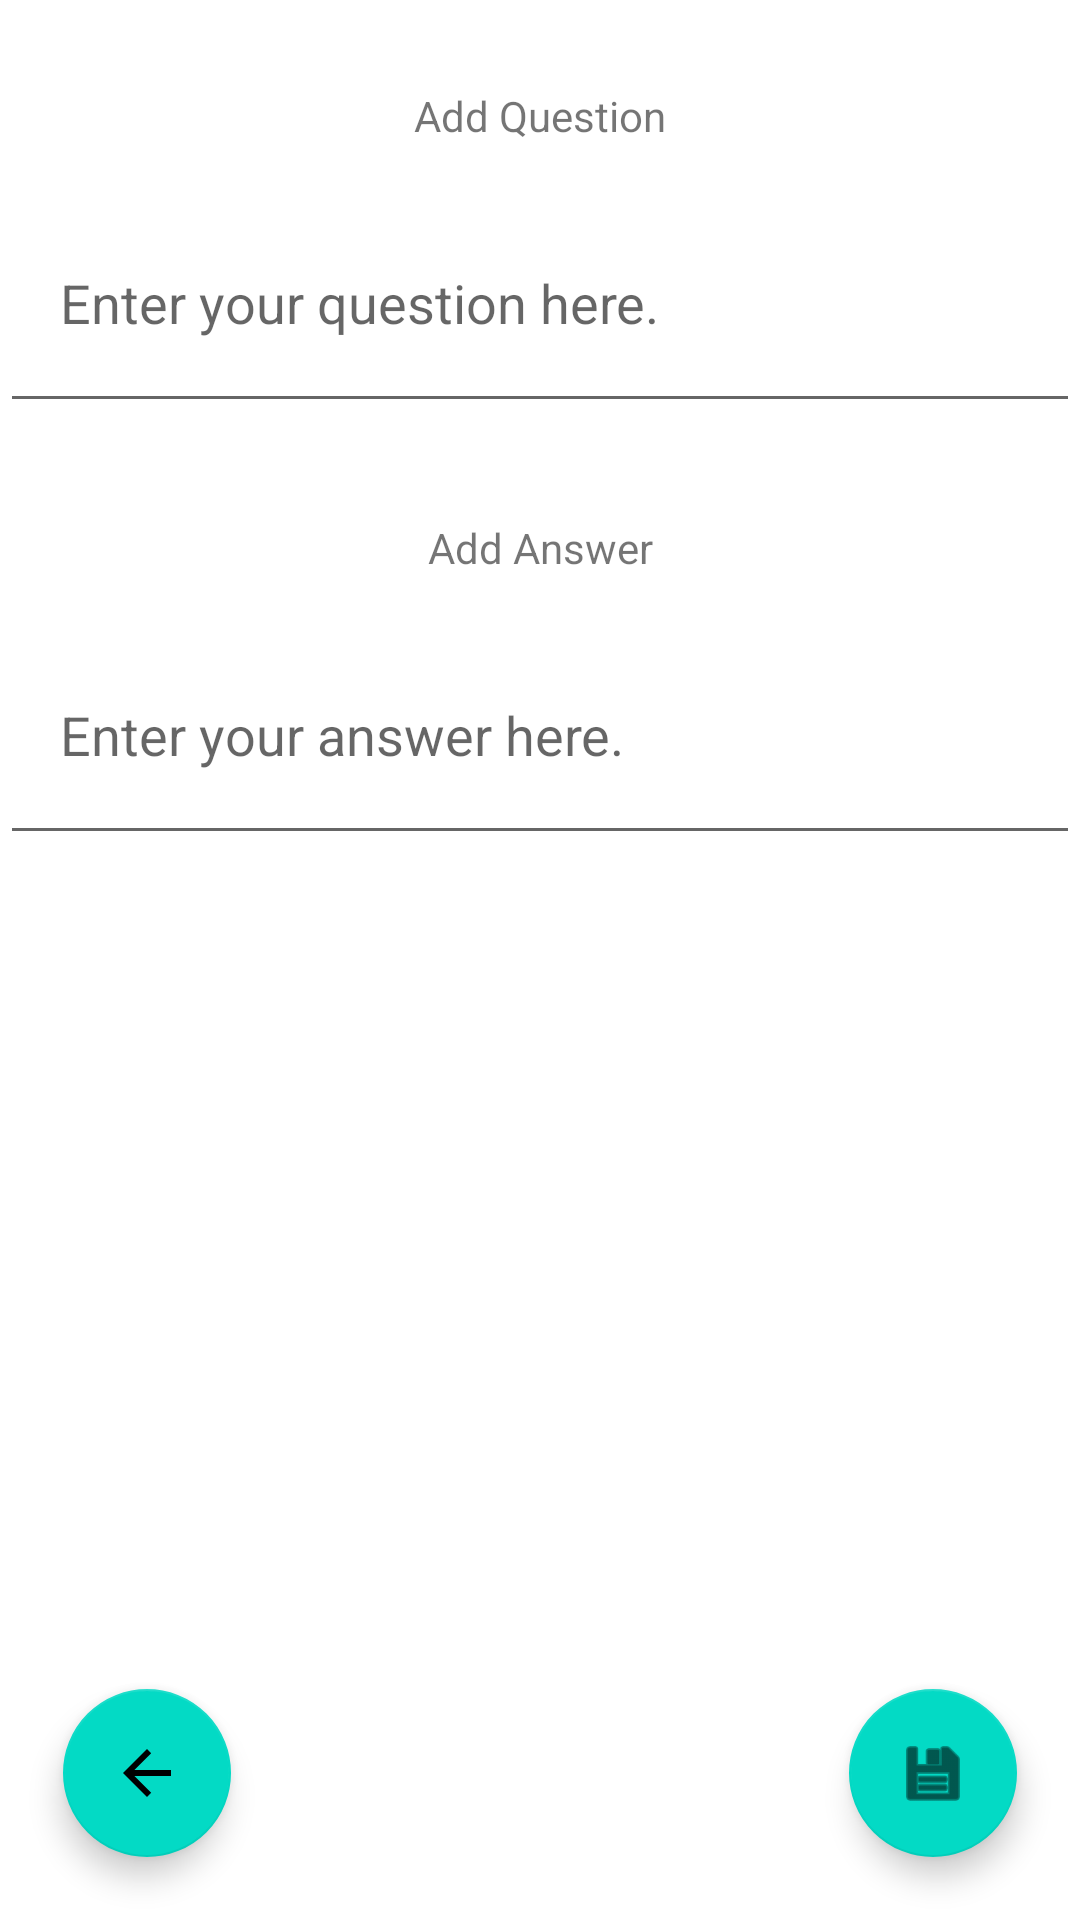

Named icons in this screenshot (1080 x 1920) and their bounding boxes, region(x1, y1, x2, y2):
Save: region(849, 1689, 1017, 1857)
